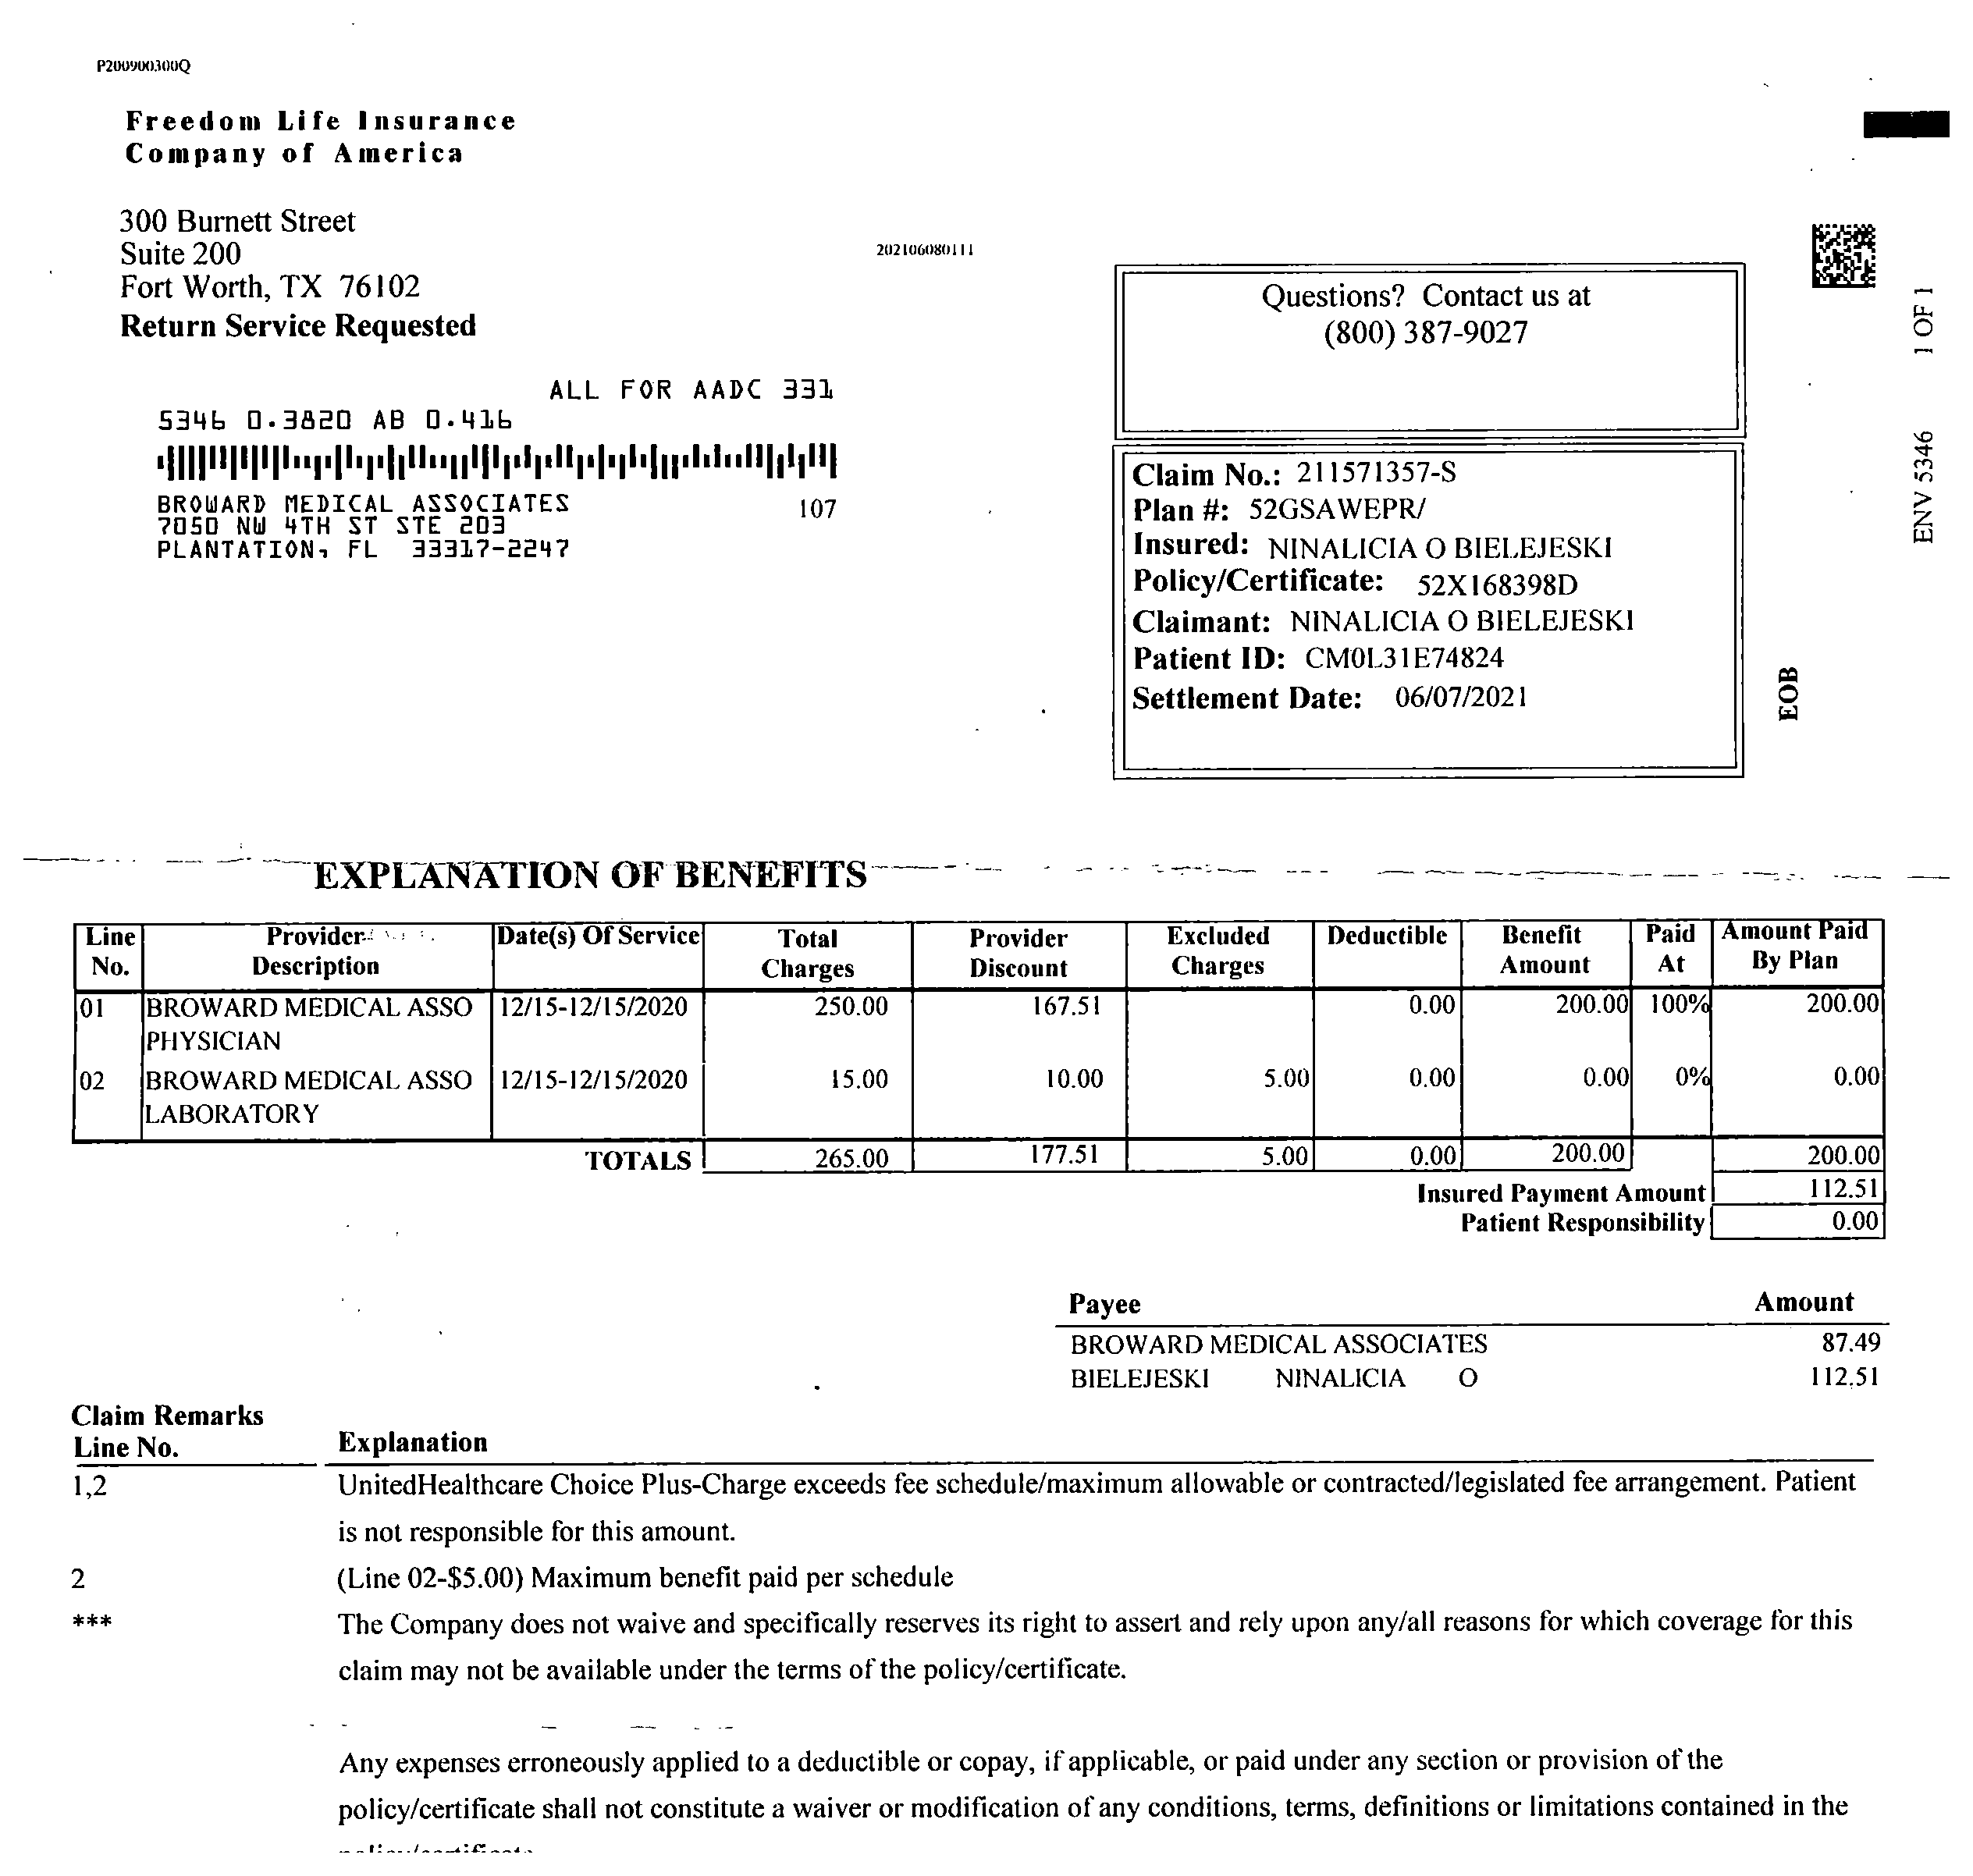data: (1105, 437, 1755, 787)
table: (60, 895, 1908, 1177)
